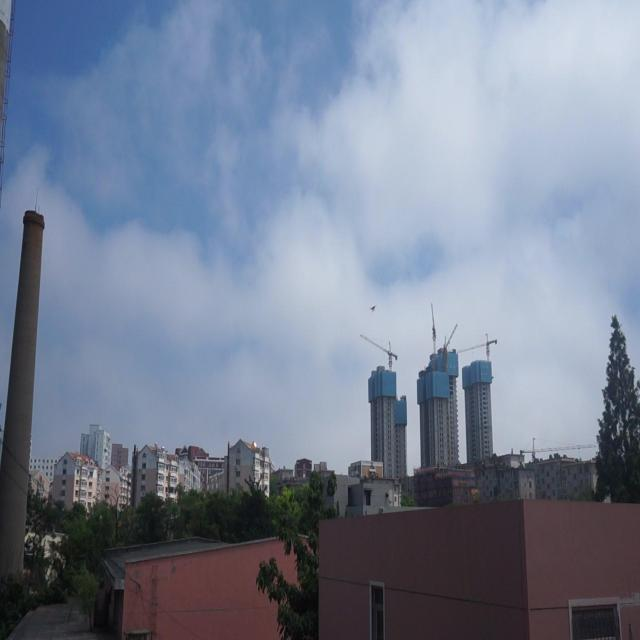drone: (368, 300, 376, 316)
